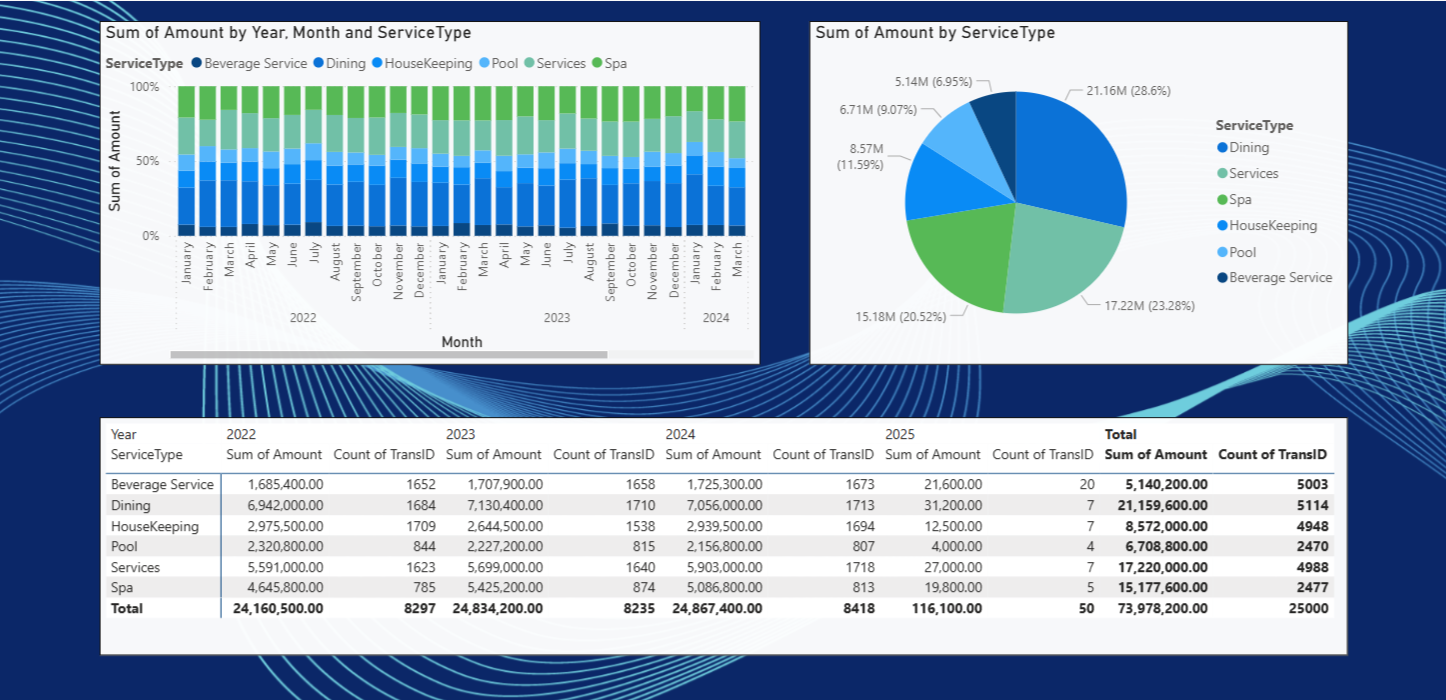

What the dashboard file says about the page in this screenshot:
{"tool":"powerbi","page":{"name":"Revenue Strategy","canvas":[1280,720],"ordinal":8},"visuals":[{"type":"hundredPercentStackedColumnChart","fields":{"Category":["Ancillary_Transactions.MonthStart.Variation.Date Hierarchy.Year","Ancillary_Transactions.MonthStart.Variation.Date Hierarchy.Month"],"Y":["Sum(Ancillary_Transactions.Amount)"],"Series":["Ancillary_Transactions.ServiceType"]},"box":[34.8,61,640.6,333.4],"z":0},{"type":"pieChart","fields":{"Y":["Sum(Ancillary_Transactions.Amount)"],"Category":["Ancillary_Transactions.ServiceType"]},"box":[722.7,61,522.5,333.4],"z":1000},{"type":"pivotTable","fields":{"Rows":["Ancillary_Transactions.ServiceType"],"Columns":["Ancillary_Transactions.MonthStart.Variation.Date Hierarchy.Year","Ancillary_Transactions.MonthStart.Variation.Date Hierarchy.Quarter","Ancillary_Transactions.MonthStart.Variation.Date Hierarchy.Month","Ancillary_Transactions.MonthStart.Variation.Date Hierarchy.Day"],"Values":["Sum(Ancillary_Transactions.Amount)","CountNonNull(Ancillary_Transactions.TransID)"]},"box":[34.8,445.3,1210.4,231.4],"z":2000},{"type":"actionButton","box":[0,0,100,40],"z":3000}]}

Visuals, with their boxes in screenshot pixels (x1, y1, x2, y2):
hundredPercentStackedColumnChart - Ancillary_Transactions.MonthStart.Variation.Date Hierarchy.Year x Ancillary_Transactions.MonthStart.Variation.Date Hierarchy.Month: BBox(96, 18, 757, 361)
pieChart - Sum(Ancillary_Transactions.Amount) x Ancillary_Transactions.ServiceType: BBox(805, 18, 1344, 361)
pivotTable - Ancillary_Transactions.ServiceType x Ancillary_Transactions.MonthStart.Variation.Date Hierarchy.Year: BBox(96, 414, 1344, 653)
